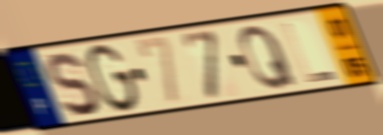7: (132, 33, 184, 108), (182, 27, 221, 102)
G: (85, 42, 142, 115)
L: (280, 20, 340, 86)
Q: (238, 22, 300, 92)
S: (44, 50, 102, 120)
